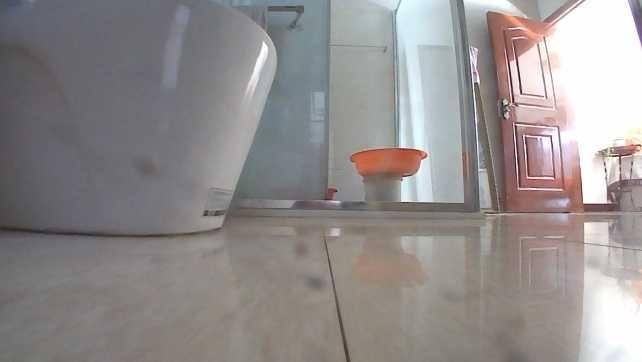door_anno: (485, 11, 586, 212)
toilet: (0, 0, 280, 240)
